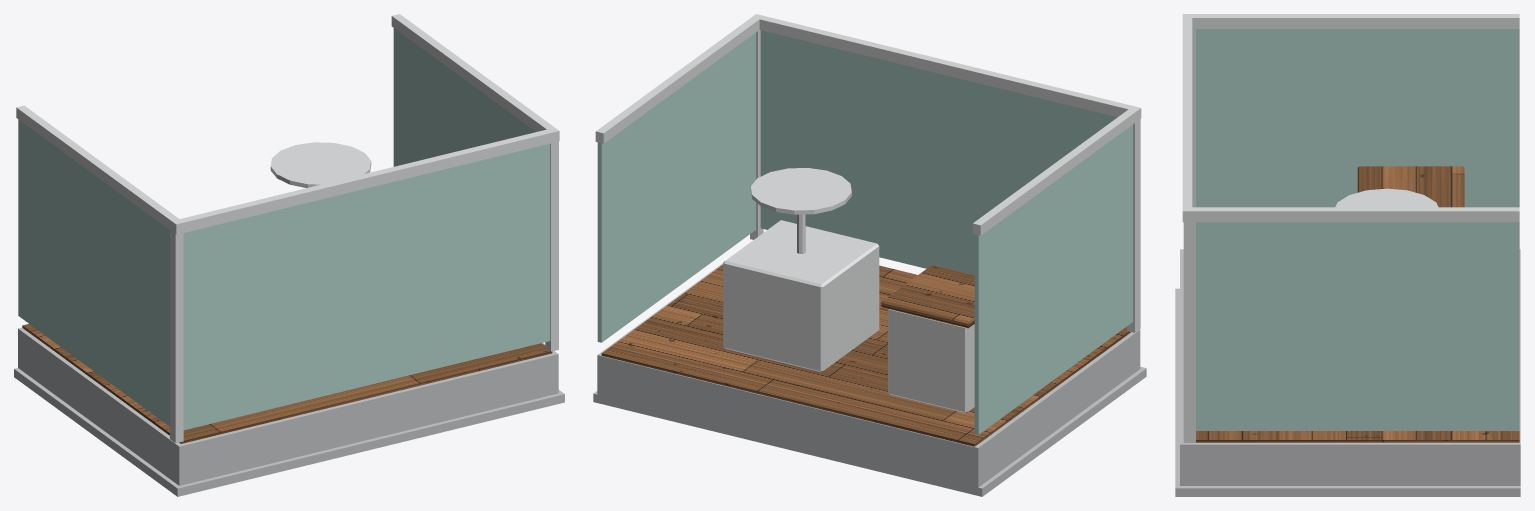
The model's file is balcony.glb.
3 views of the same model, side by side, from view 1: azimuth 30°, elevation 25°; view 2: azimuth 150°, elevation 25°; view 3: azimuth 270°, elevation 25° (orthographic). The views are drawn at different scales.
Parts seen in each view (by area): view 1: balcony_gglass, balcony_band, balcony_steel, balcony_wood; view 2: balcony_gglass, balcony_steel, balcony_band, balcony_wood; view 3: balcony_gglass, balcony_band, balcony_steel, balcony_wood.
Part boxes in pixels (x1=…): balcony_gglass: x1=18, y1=28, x2=550, y2=430; balcony_band: x1=14, y1=327, x2=564, y2=496; balcony_steel: x1=16, y1=14, x2=559, y2=443; balcony_wood: x1=22, y1=324, x2=552, y2=443; balcony_gglass: x1=597, y1=30, x2=1132, y2=434; balcony_steel: x1=595, y1=14, x2=1141, y2=413; balcony_band: x1=593, y1=263, x2=1146, y2=496; balcony_wood: x1=601, y1=264, x2=1130, y2=446; balcony_gglass: x1=1196, y1=29, x2=1519, y2=430; balcony_band: x1=1175, y1=249, x2=1520, y2=496; balcony_steel: x1=1182, y1=14, x2=1519, y2=442; balcony_wood: x1=1196, y1=166, x2=1519, y2=442.
Size of the model in its own units: 1.94 by 1.29 by 1.42.
Materials: 4 (1 with a texture image).
